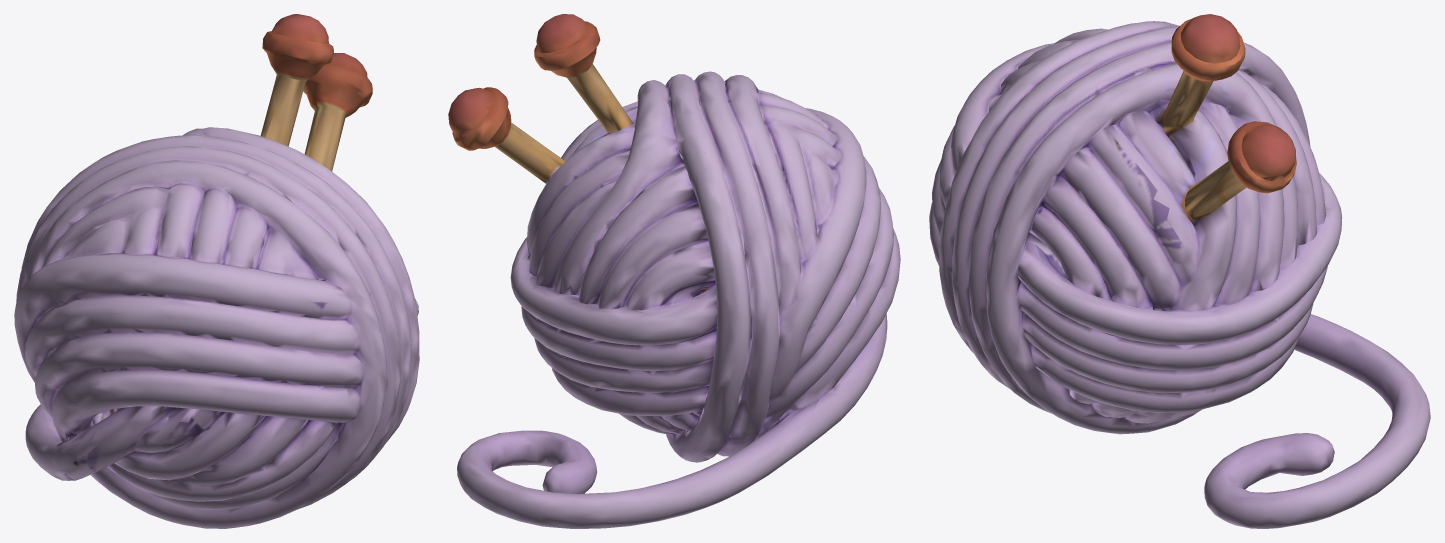
3 views of the same model, side by side, from view 1: azimuth 30°, elevation 25°; view 2: azimuth 150°, elevation 25°; view 3: azimuth 270°, elevation 25° (orthographic). The views are drawn at different scales.
Parts seen in each view (by area): view 1: repaired; view 2: repaired; view 3: repaired.
Boxes of the visible parts, <box> form: repaired: <box>14,14,419,528</box>; repaired: <box>448,14,900,528</box>; repaired: <box>929,14,1430,528</box>.
Bounding box in the file's own units: 0.8414 × 0.9999 × 0.9354.
Materials: 1 (1 with a texture image).
